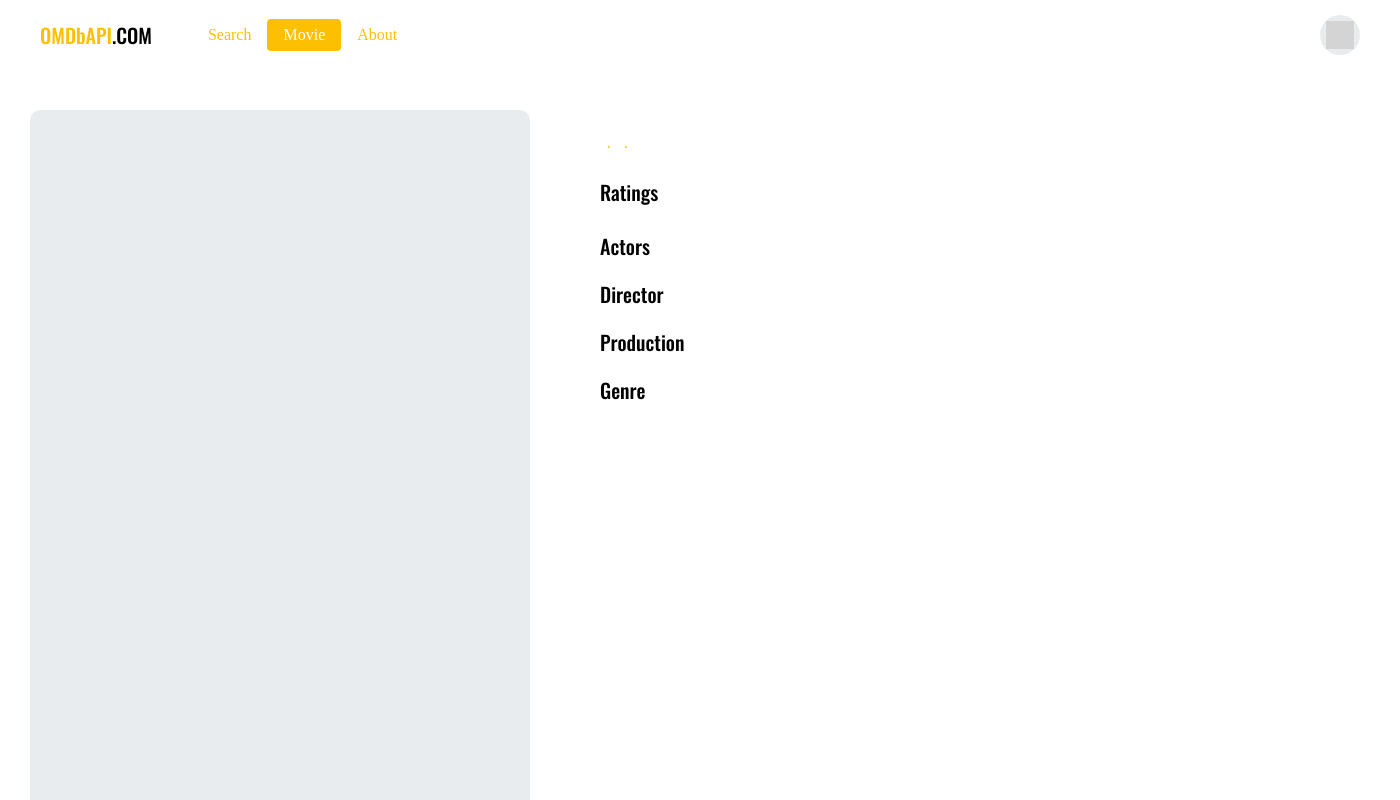
About 페이지로 이동 › About 페이지로 이동합니다
This screenshot has width=1400, height=800.
About 내비게이션 버튼 클릭!
Step 1. Click the element with class "user" → (1340, 35), box x1=1320 y1=15 x2=1360 y2=55
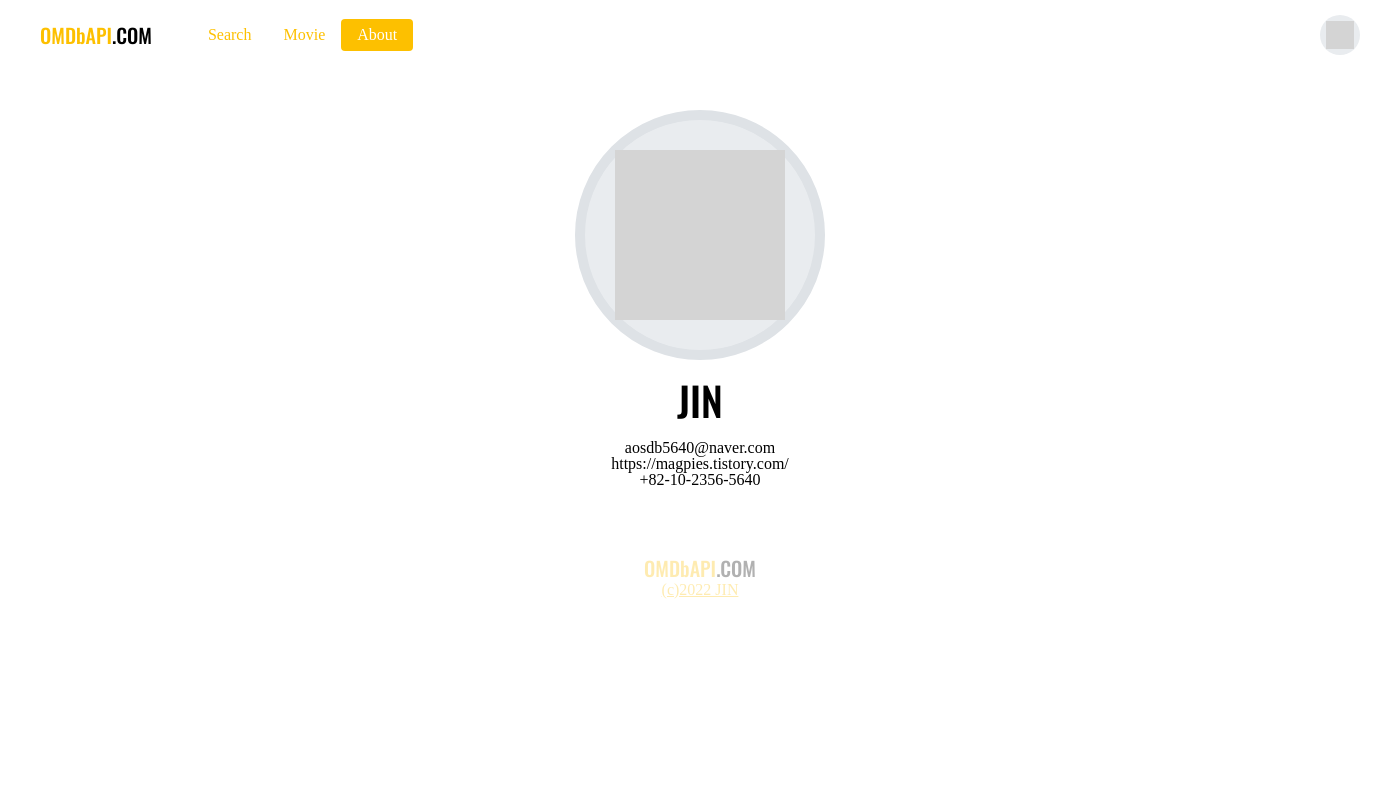
expect the link "About" is shown: met, box x1=341 y1=19 x2=413 y2=51
expect the text "JIN" is shown: met, box x1=677 y1=370 x2=723 y2=430
